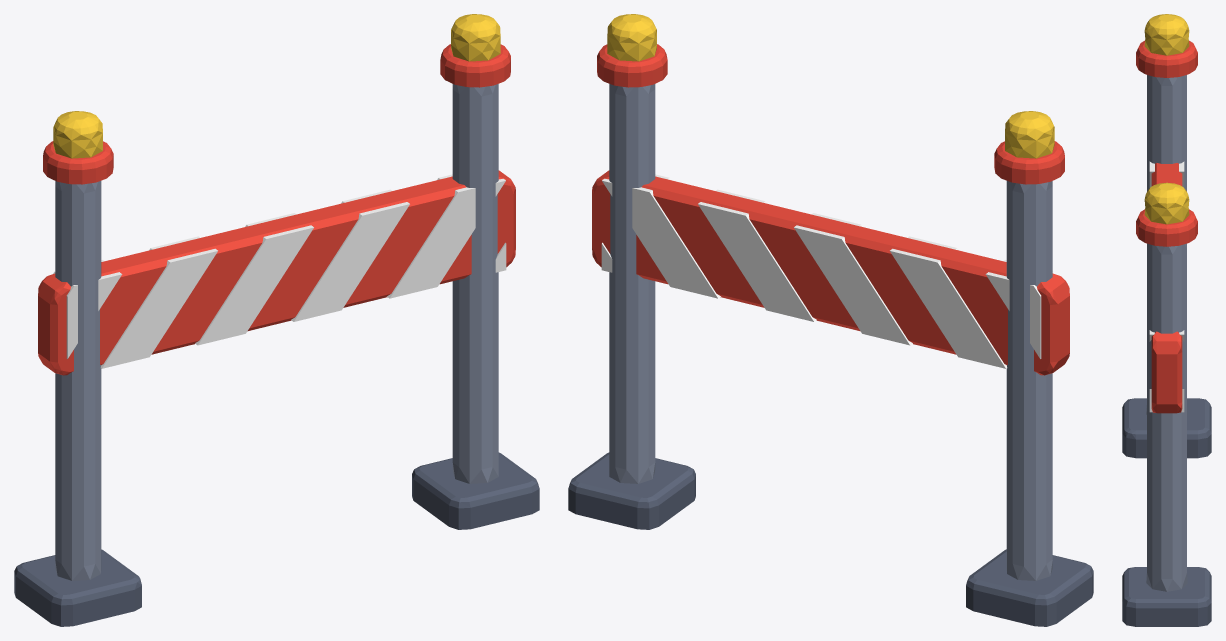
File: prop_barrier.glb
3 views of the same model, side by side, from view 1: azimuth 30°, elevation 25°; view 2: azimuth 150°, elevation 25°; view 3: azimuth 270°, elevation 25° (orthographic). The views are drawn at different scales.
Parts seen in each view (by area): view 1: posts, board, stripes, main, lamps, caps; view 2: posts, board, stripes, main, lamps, caps; view 3: posts, main, lamps, board, caps, stripes.
Boxes of the visible parts, x1,y1,x2,y2 form: posts: (55, 84, 498, 580); board: (38, 170, 515, 375); stripes: (53, 174, 506, 368); main: (14, 452, 539, 626); lamps: (53, 14, 500, 158); caps: (43, 44, 510, 184); posts: (609, 84, 1052, 580); board: (592, 170, 1069, 375); stripes: (601, 174, 1054, 368); main: (568, 452, 1093, 626); lamps: (607, 14, 1054, 158); caps: (597, 44, 1064, 184); posts: (1146, 75, 1187, 591); main: (1122, 398, 1211, 626); lamps: (1144, 14, 1189, 224); board: (1151, 163, 1182, 413); caps: (1136, 40, 1197, 246); stripes: (1149, 161, 1184, 412).
Size of the model in its own units: 1.05 by 1 by 0.1926.
